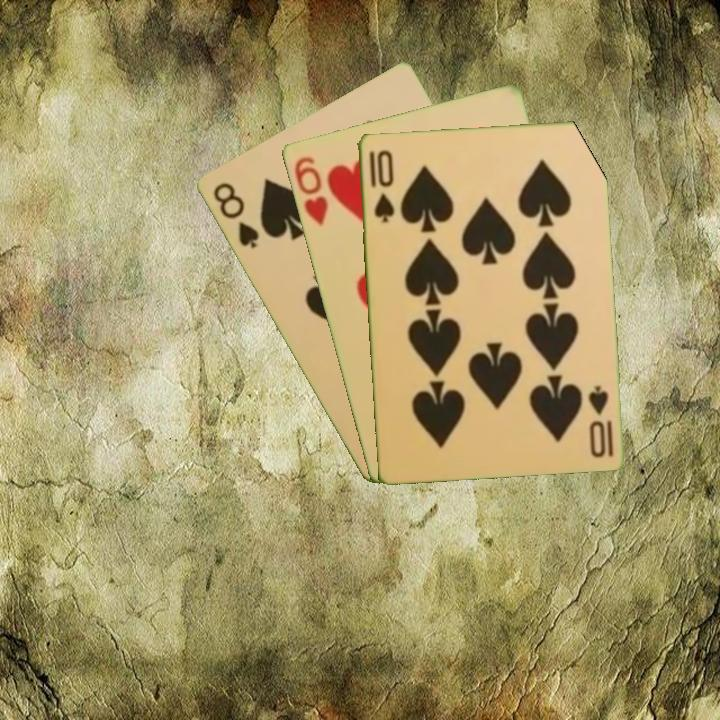10s: (365, 146, 397, 225), (584, 381, 616, 460)
6h: (290, 152, 331, 229)
8s: (208, 178, 262, 252)
